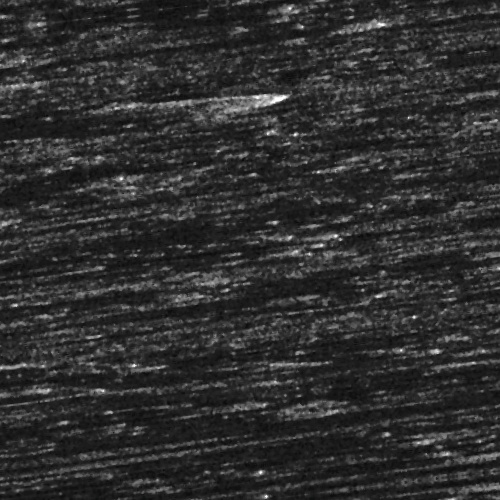object: (328, 33, 411, 44), (339, 453, 432, 462), (398, 381, 461, 390), (350, 2, 433, 7), (262, 299, 303, 304), (311, 240, 342, 245)
shadow: (24, 33, 370, 44), (132, 2, 392, 7), (295, 453, 386, 462), (341, 381, 429, 390), (195, 299, 282, 304), (241, 240, 326, 245)
